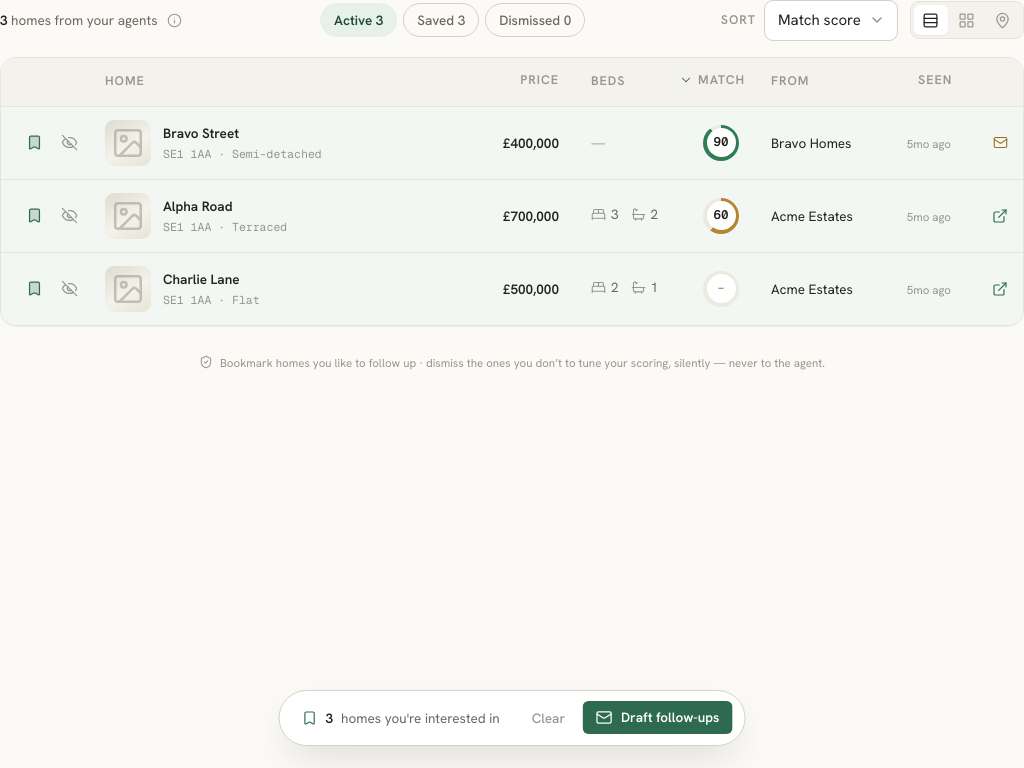
Test: ListingsPage interest + follow-ups › 'Draft follow-ups' opens a modal grouping the bookmarked homes by agency
Click the button with test id "draft-followups" at (658, 718), box [583,701,732,734]
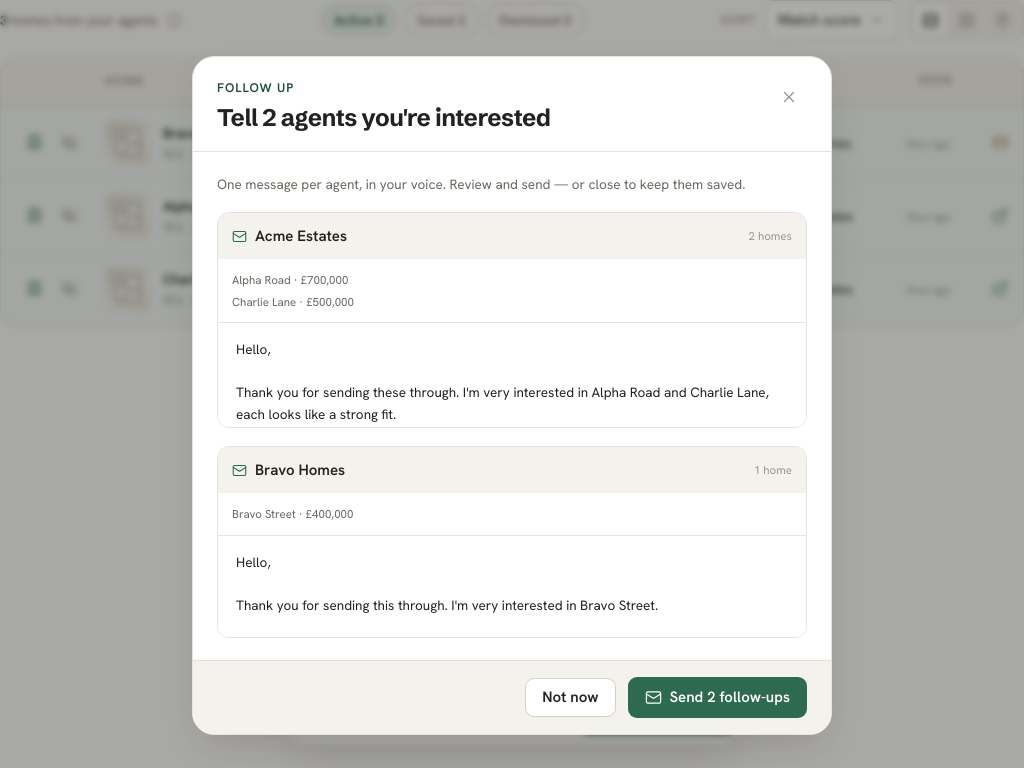
expect the dialog with test id "followup-modal" is shown: met, box [192,56,832,734]
expect the text "Acme Estates" is shown: met, box [232,225,347,247]
expect the text "Bravo Homes" is shown: met, box [232,459,345,481]
